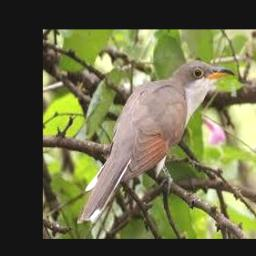Cuckoo: (77, 60, 235, 223)
